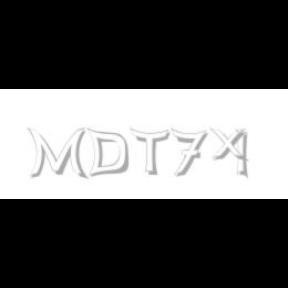7: (170, 128, 208, 178)
D: (86, 128, 128, 178)
I: (236, 128, 250, 180)
M: (26, 128, 86, 180)
T: (130, 128, 170, 176)
x: (209, 128, 251, 162)
